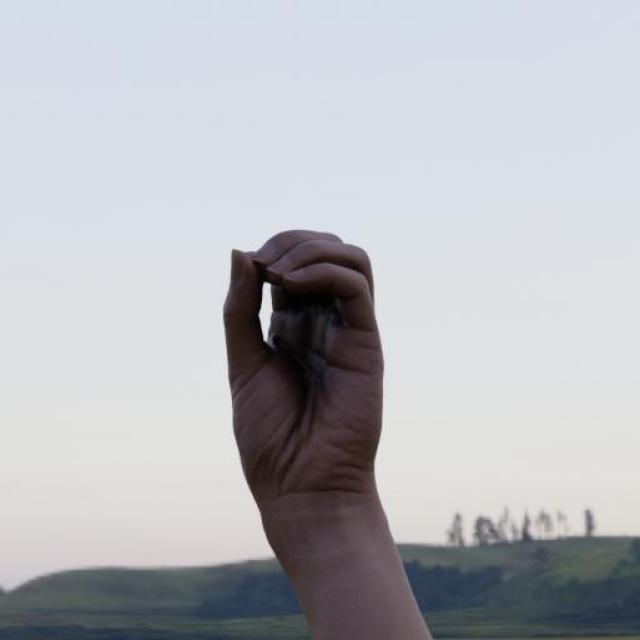O: (185, 194, 446, 611)
